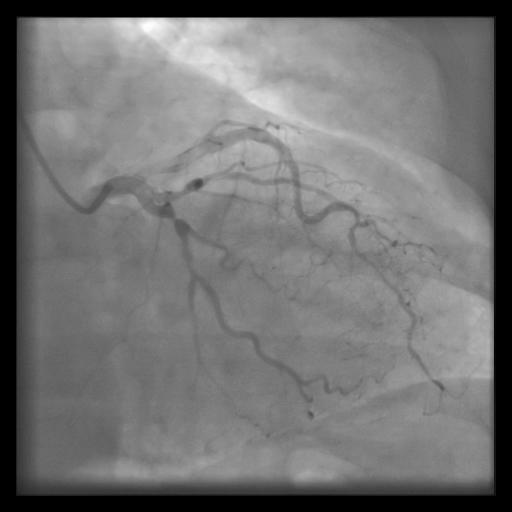Stenosis: (159, 202, 183, 227)
